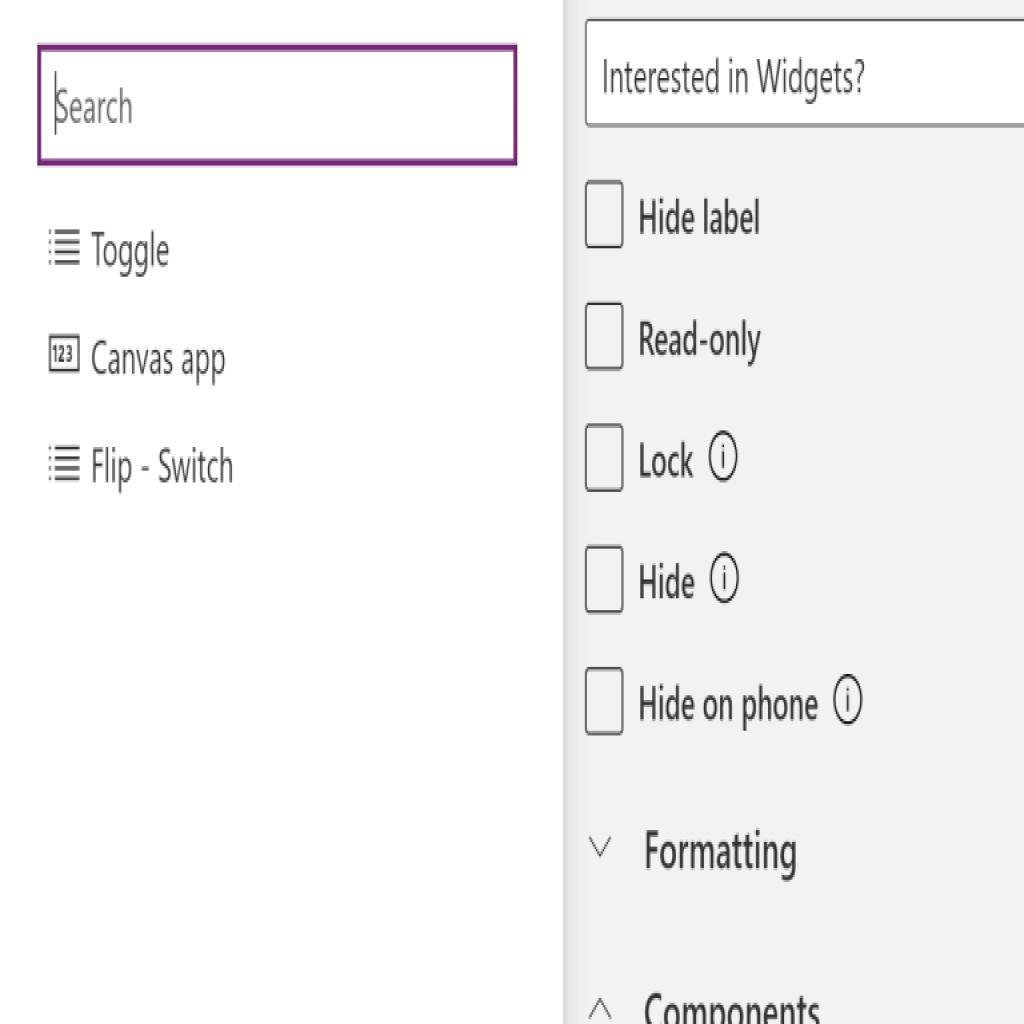checkbox: (585, 302, 626, 371), (585, 666, 623, 736), (584, 545, 622, 614), (585, 184, 625, 249), (587, 424, 622, 493)
icon: (43, 433, 88, 489), (45, 222, 87, 276), (41, 335, 86, 383)
input: (36, 45, 518, 167), (587, 19, 1023, 128)
